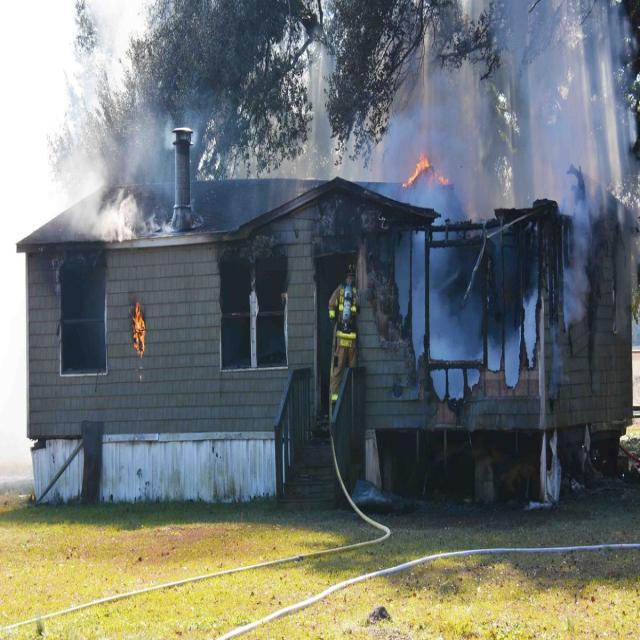fire: (131, 302, 147, 358)
smoke: (528, 43, 610, 200), (70, 165, 145, 239)
